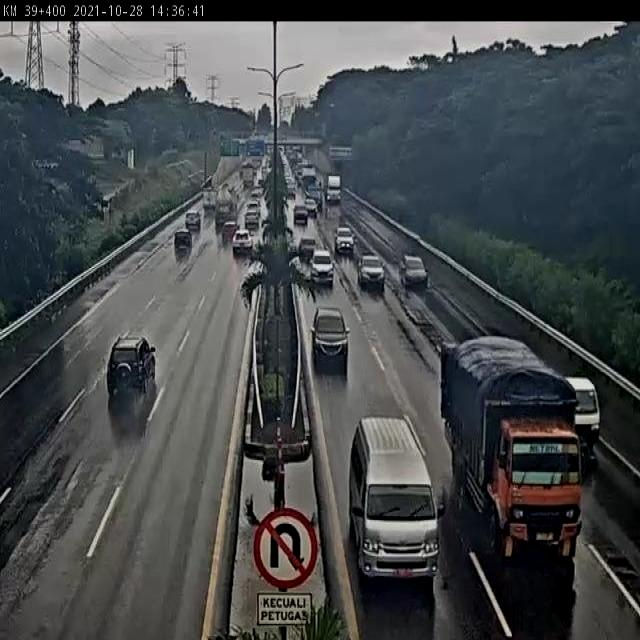Car: (349, 414, 440, 580), (107, 333, 157, 398), (308, 304, 352, 374), (563, 376, 600, 446), (357, 253, 385, 291), (401, 254, 430, 290), (309, 248, 335, 285), (232, 228, 254, 256), (335, 227, 355, 254), (174, 228, 192, 258), (244, 204, 260, 232), (298, 236, 316, 260), (221, 220, 238, 245), (185, 208, 201, 232), (293, 204, 309, 225), (304, 197, 318, 218)
Truck: (442, 323, 586, 596)
